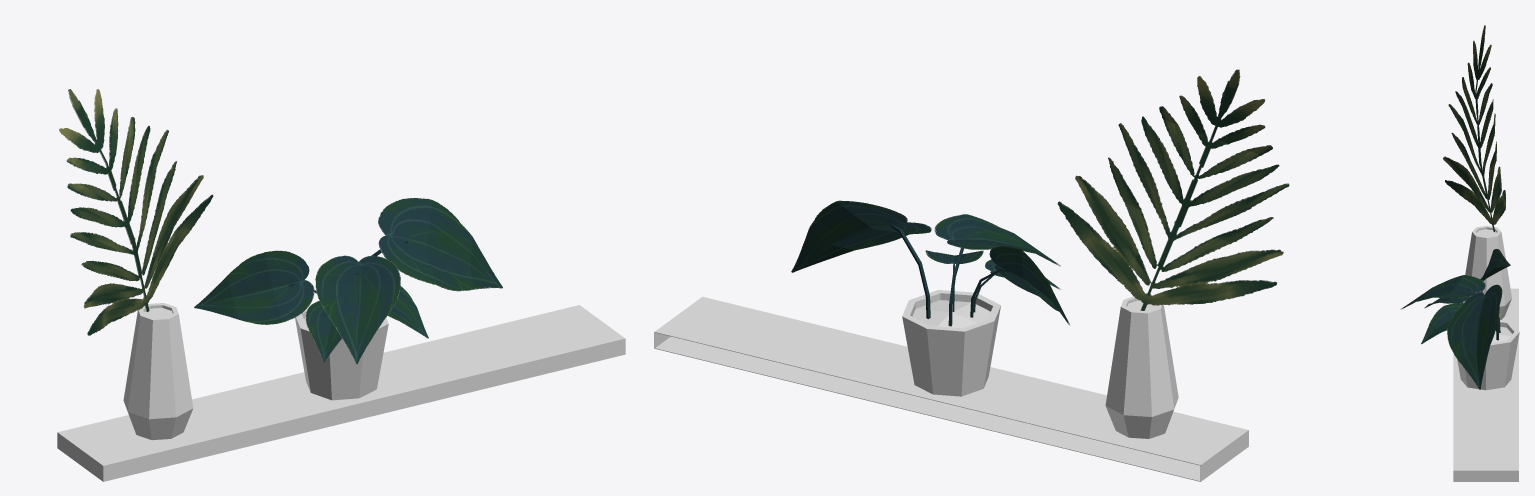
Rendered from Brick_plants_shelf.fbx.
The picture shows the model from 3 angles, left to right: view 1: azimuth 30°, elevation 25°; view 2: azimuth 150°, elevation 25°; view 3: azimuth 270°, elevation 25°; orthographic projection. The views are drawn at different scales.
Parts seen in each view (by area): view 1: Plane.001; view 2: Plane.001; view 3: Plane.001.
Part boxes in pixels (bbox=[...]): Plane.001: bbox=[57, 89, 625, 481]; Plane.001: bbox=[654, 69, 1289, 481]; Plane.001: bbox=[1400, 25, 1519, 481].
Bounding box in the file's own units: 472 × 309 × 130.
2 materials, 1 textured.
